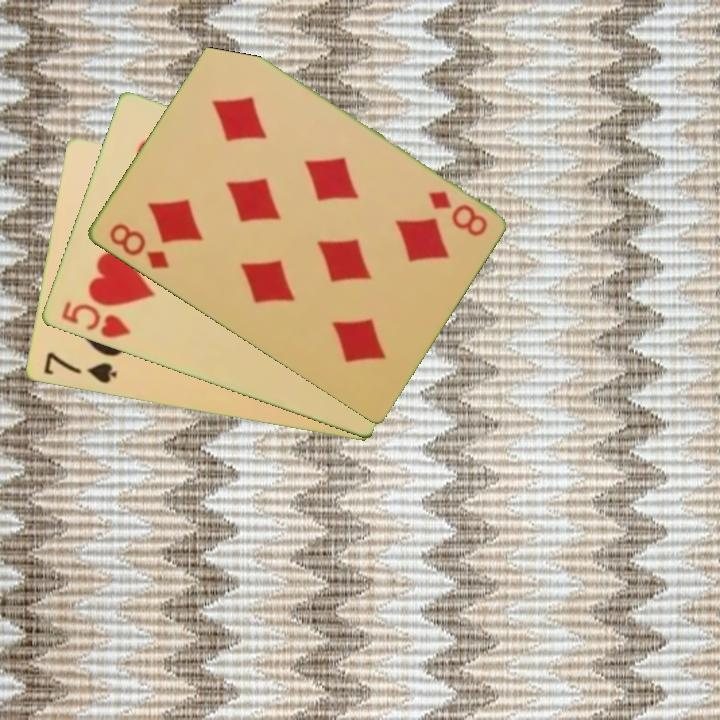5h: (57, 298, 133, 342)
7s: (40, 349, 120, 387)
8d: (105, 219, 172, 272), (423, 187, 490, 240)
